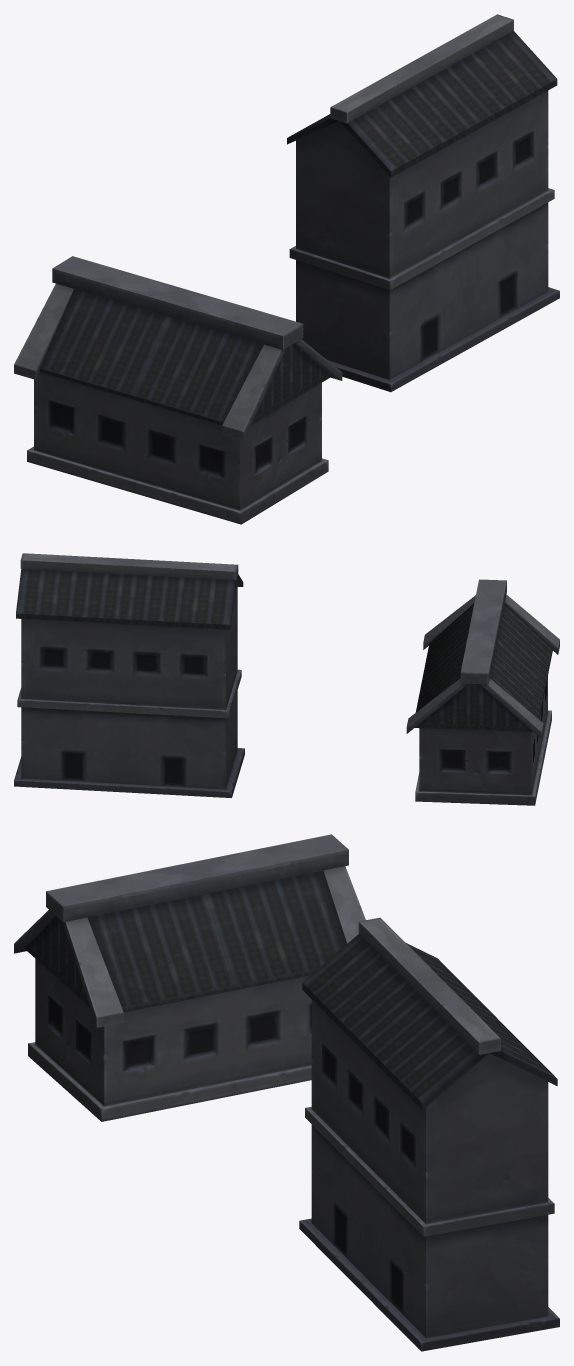
Rendered from Area_15_3.fbx.
3 renders of one model, top to bottom at view 1: azimuth 30°, elevation 25°; view 2: azimuth 150°, elevation 25°; view 3: azimuth 270°, elevation 25°, orthographic. The views are drawn at different scales.
Parts seen in each view (by area): view 1: Area_15_3; view 2: Area_15_3; view 3: Area_15_3.
Part boxes in pixels (x1=…): Area_15_3: x1=14, y1=14, x2=559, y2=524; Area_15_3: x1=14, y1=553, x2=559, y2=805; Area_15_3: x1=14, y1=834, x2=559, y2=1351.
Bounding box in the file's own units: 3708 × 1562 × 2595.
